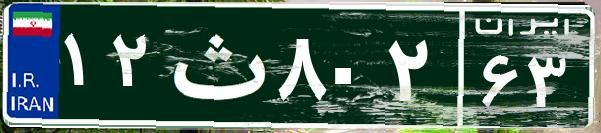0: (330, 28, 385, 110)
1: (57, 26, 110, 107)
2: (385, 28, 445, 110), (110, 28, 158, 105)
3: (525, 38, 570, 115)
6: (475, 38, 525, 113)
8: (273, 28, 330, 110)
ث: (158, 15, 273, 115)
